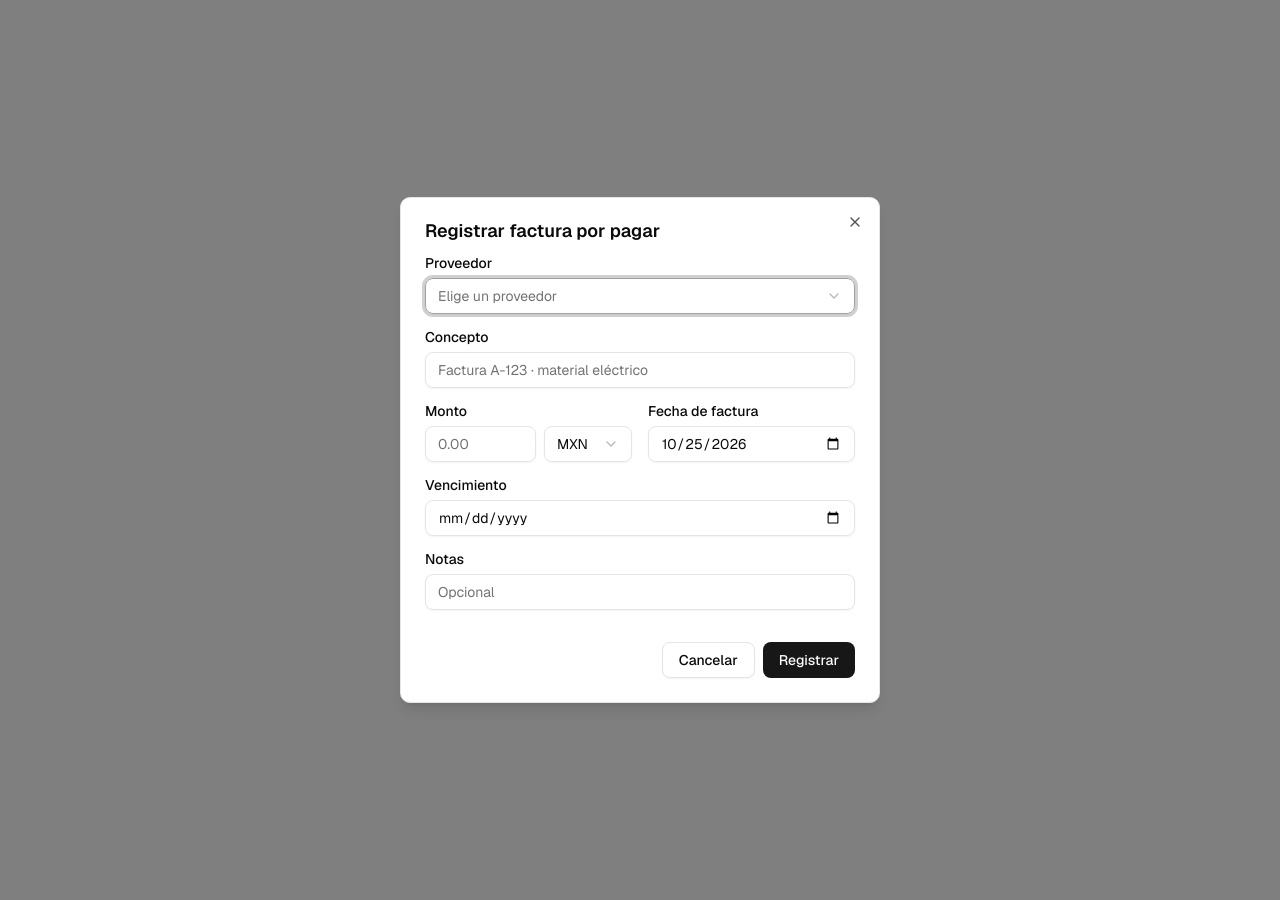
Test: PayableForm — pre-llenado del vencimiento › proveedor de contado pre-llena con la misma fecha de factura
In the date field labelled "Fecha de factura": point(752, 444) [648,426,855,462], type "2026-09-05"
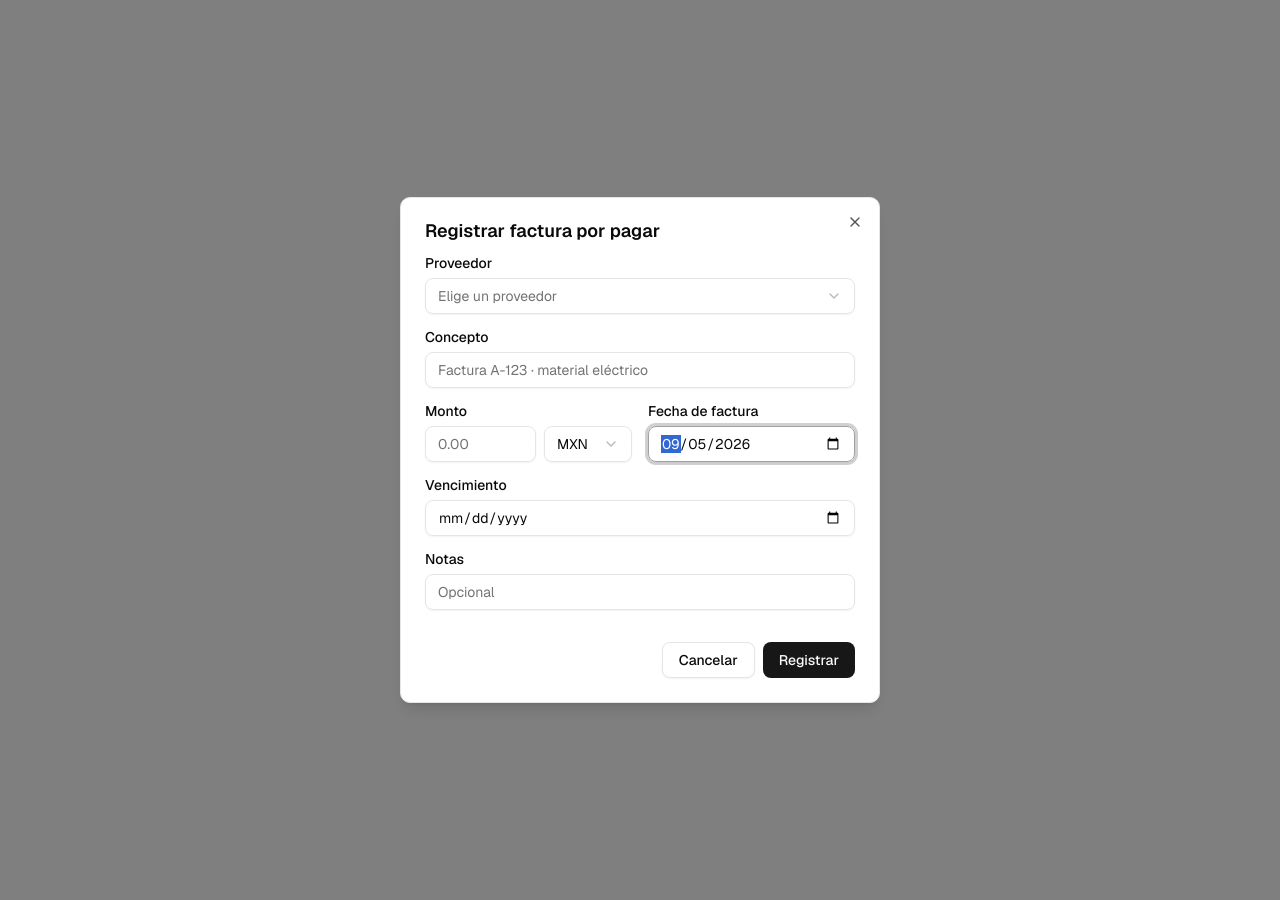
Click the dropdown labelled "proveedor": point(498, 296) [425,278,855,314]
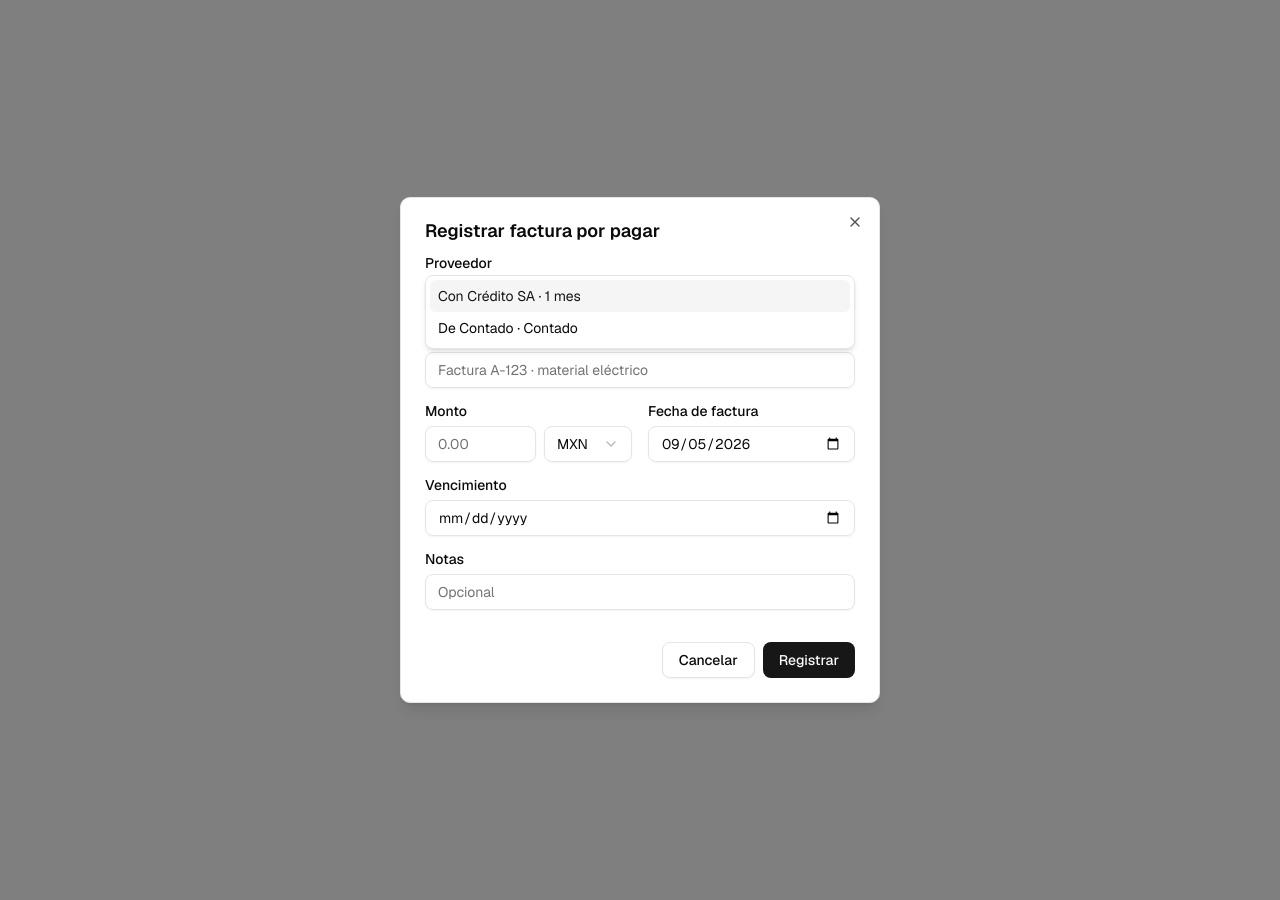
Click the option "De Contado · Contado": point(508, 328) [438,319,578,337]
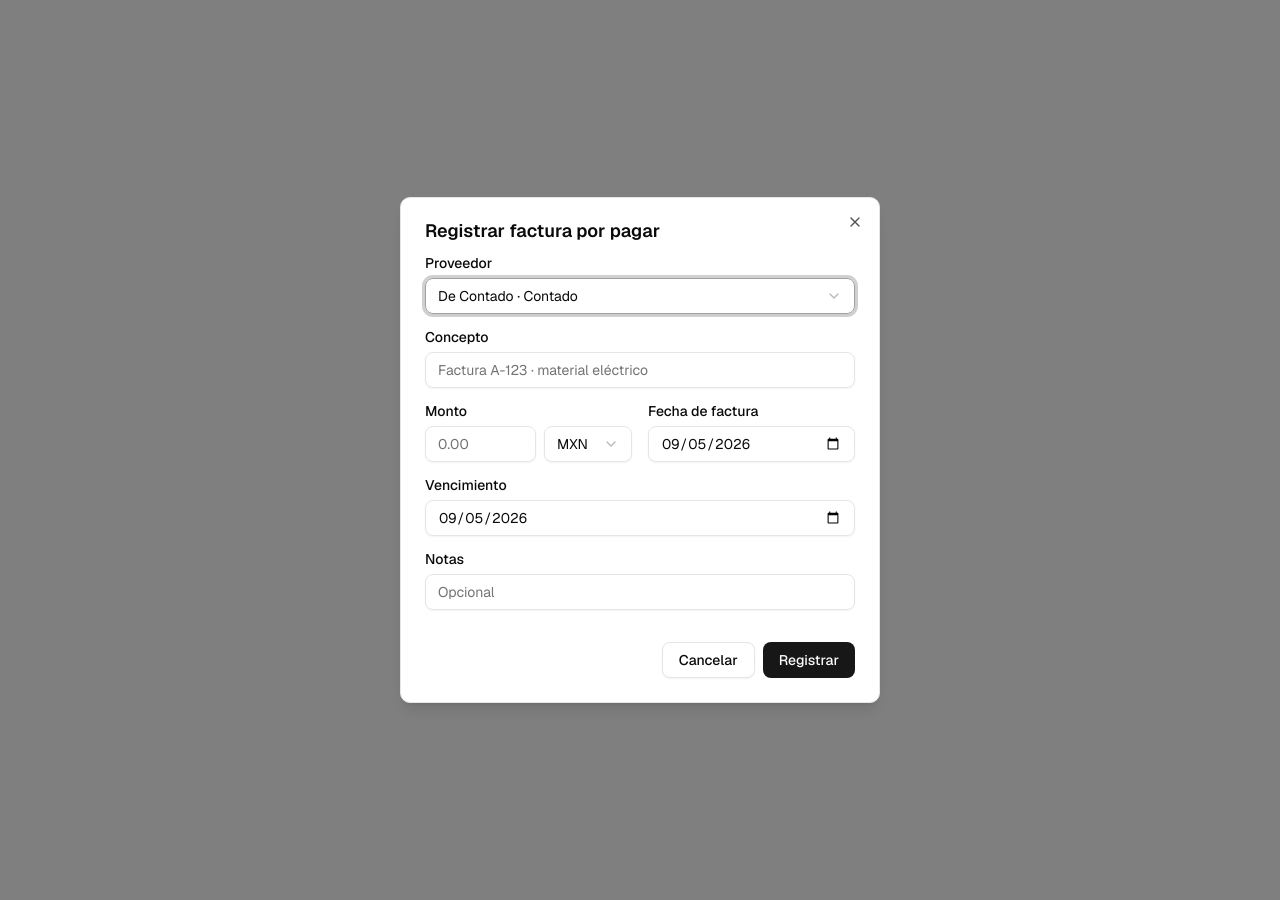
Result: the date field labelled "Vencimiento" holds "2026-09-05" at [425,500,855,536]
